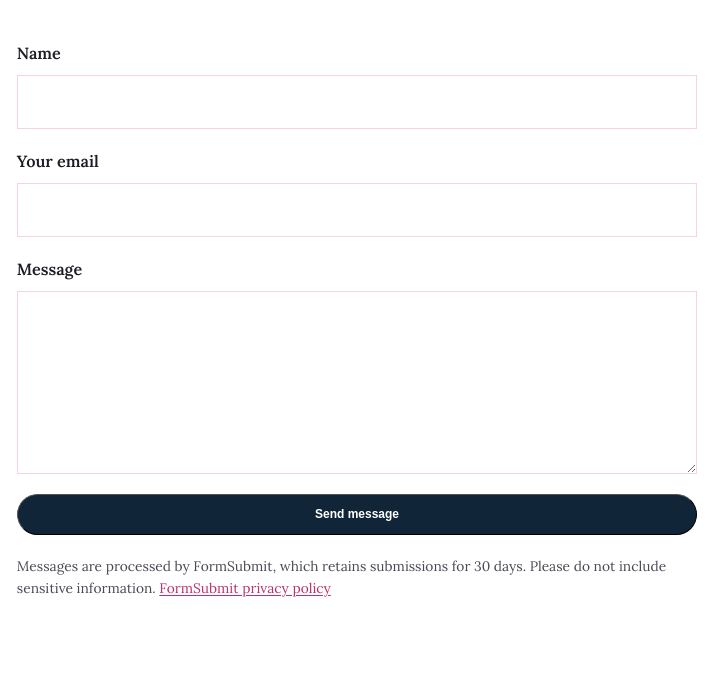
it: ContactForm › keeps the message and reports activation failures without provider details
Type "A visitor" into the field labelled "Name".
click(357, 102); type("A visitor")  # box [17,75,697,128]
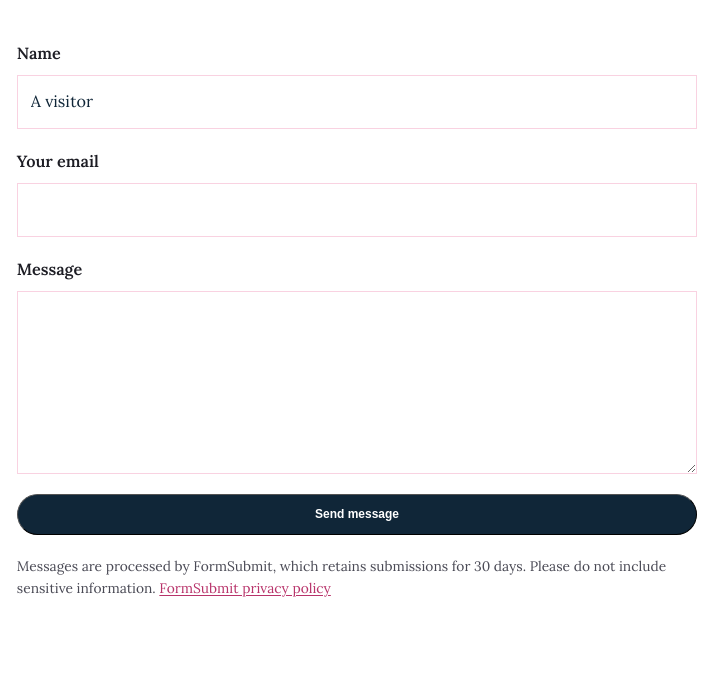
Type "visitor@example.test" into the field labelled "Your email".
click(357, 210); type("visitor@example.test")  # box [17,183,697,237]
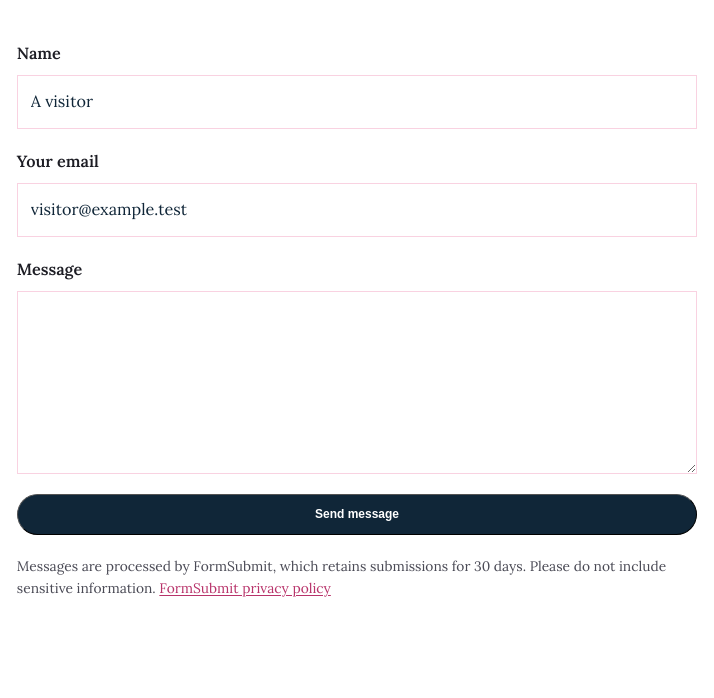
Type "I would like to learn more about the chapter." into the text box labelled "Message".
click(357, 382); type("I would like to learn more about the chapter.")  # box [17,291,697,474]
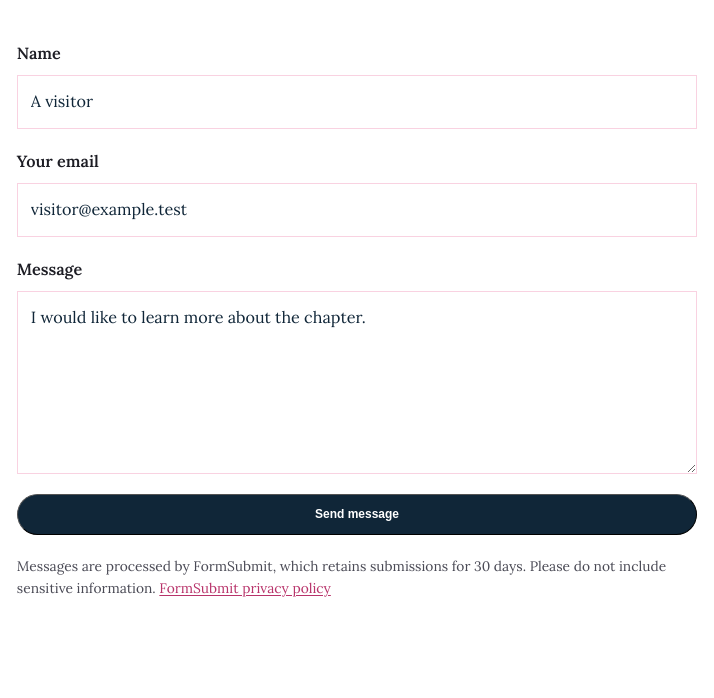
Submit the form
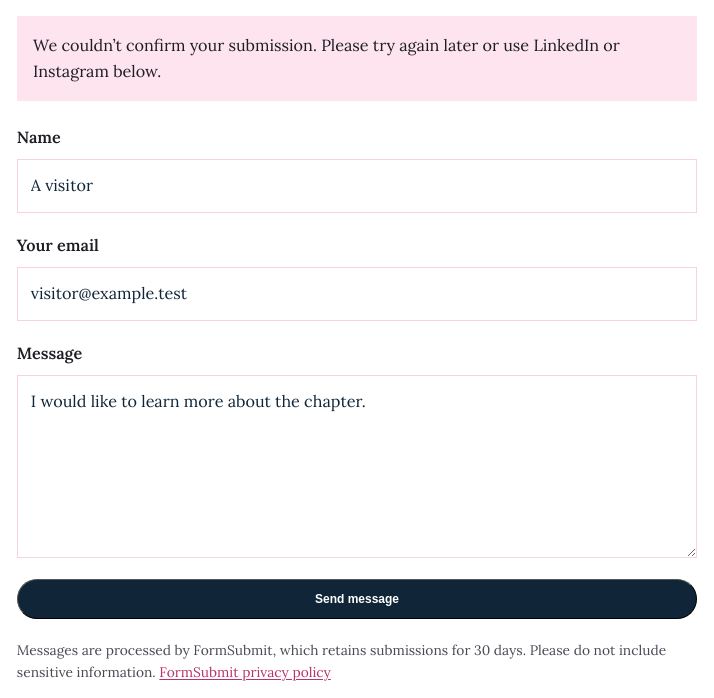
Expected: the button "Send message" is enabled, [17,578,697,619]
Now the message shows "couldn’t confirm your submission", box [33,35,620,80]
